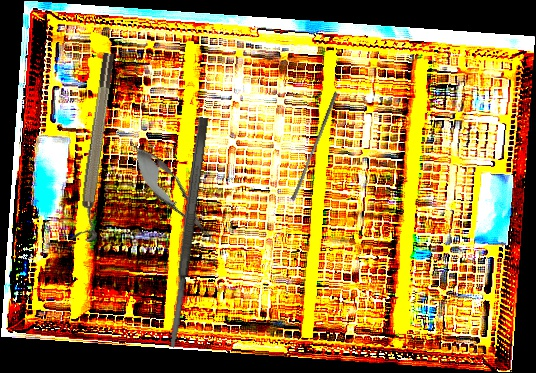Fixation Ring: (70, 52, 126, 243)
Micro Scissor: (122, 137, 228, 255)
Pusher: (290, 89, 339, 203)
Spatula Surgical: (165, 116, 211, 349)
